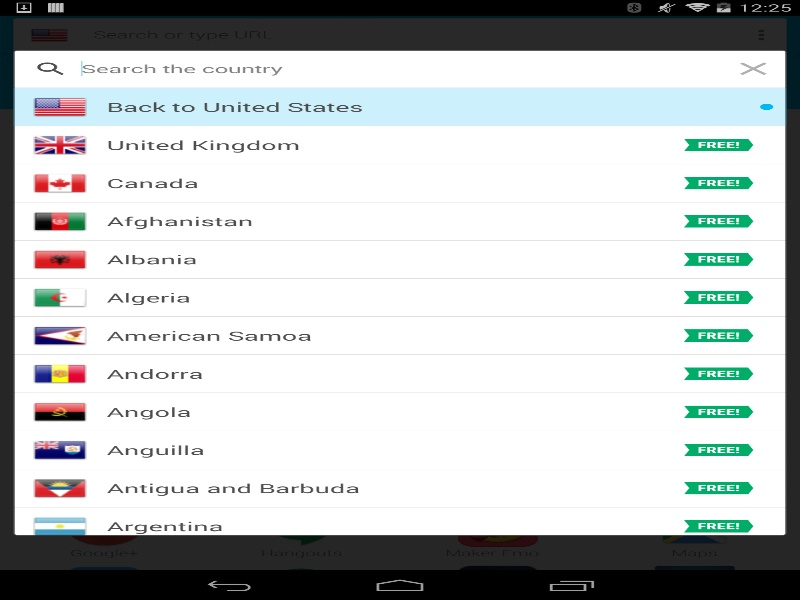Input: (68, 60, 726, 76)
